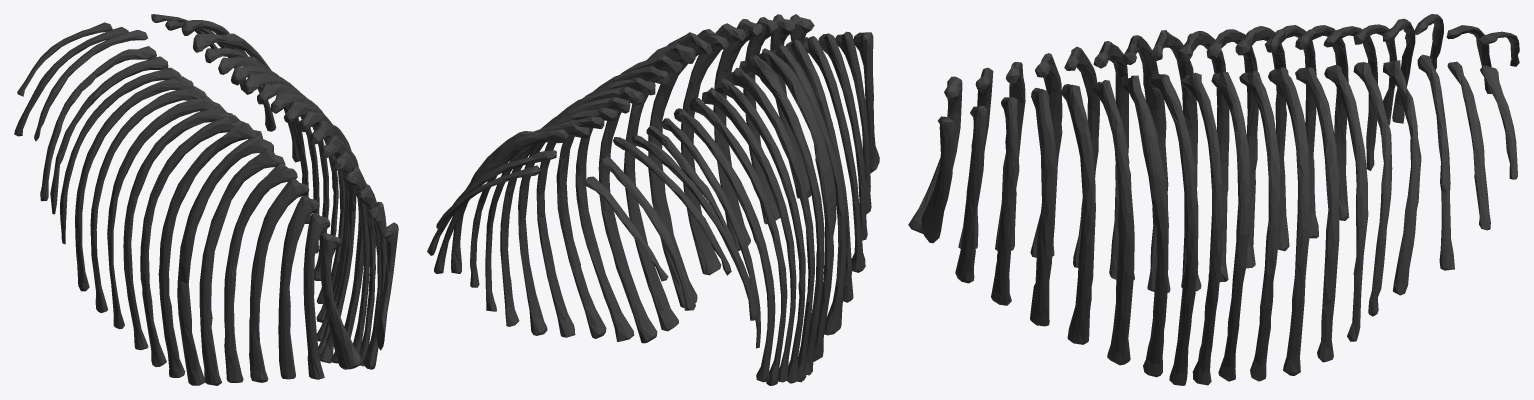
The model's file is RIBS.glb.
3 renders of one model, left to right at view 1: azimuth 30°, elevation 25°; view 2: azimuth 150°, elevation 25°; view 3: azimuth 270°, elevation 25°, orthographic. The views are drawn at different scales.
Parts seen in each view (by area): view 1: RIBS; view 2: RIBS; view 3: RIBS.
Part boxes in pixels (x1,y1,x2,y2): RIBS: (14, 14, 398, 385); RIBS: (427, 14, 879, 385); RIBS: (908, 14, 1519, 385).
Bounding box in the file's own units: 75.41 × 75.06 × 131.
Materials: 1 (1 with a texture image).
